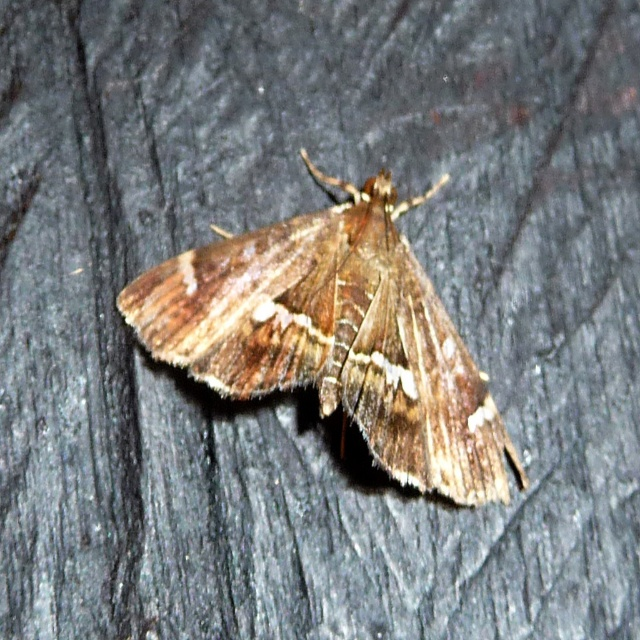Butterfly: (115, 146, 528, 507)
